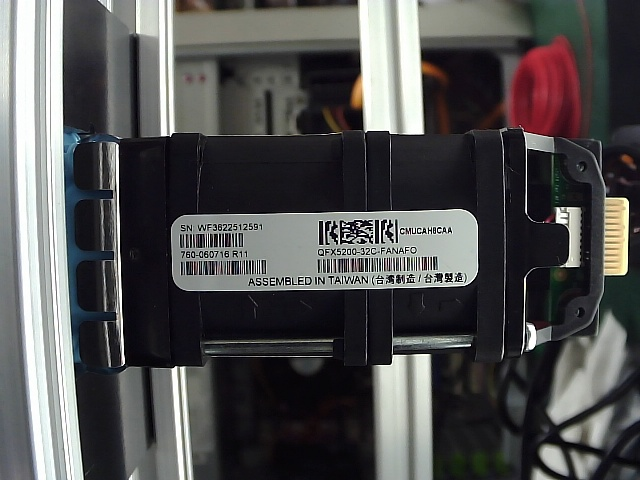6_1: (176, 116, 566, 177)
